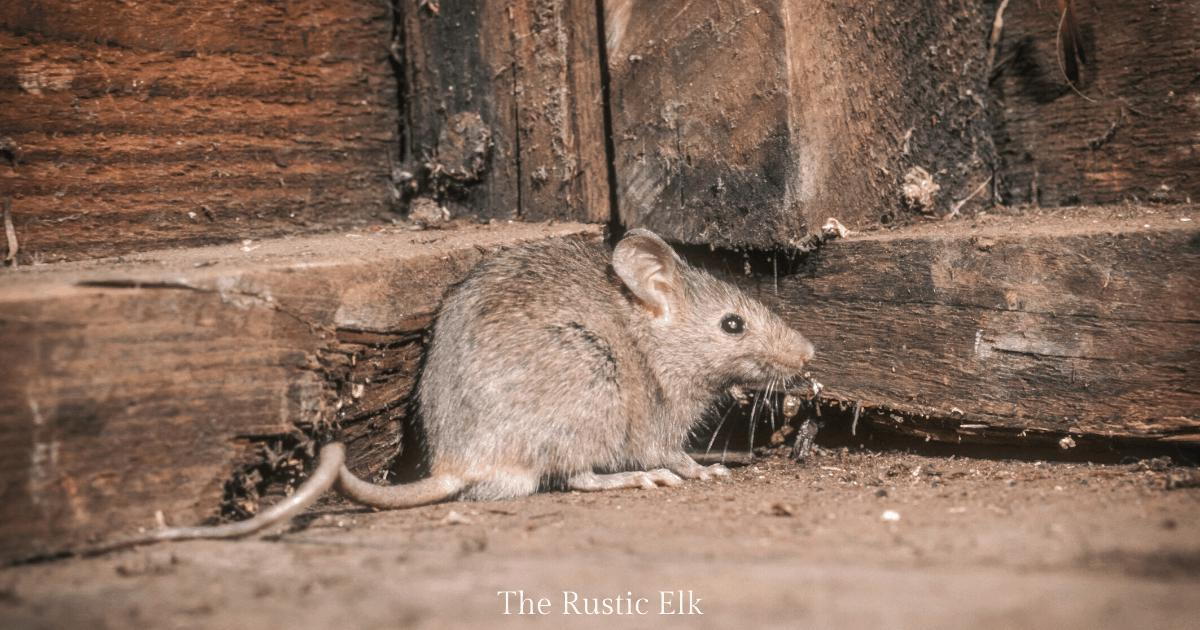rat: (157, 226, 813, 536)
